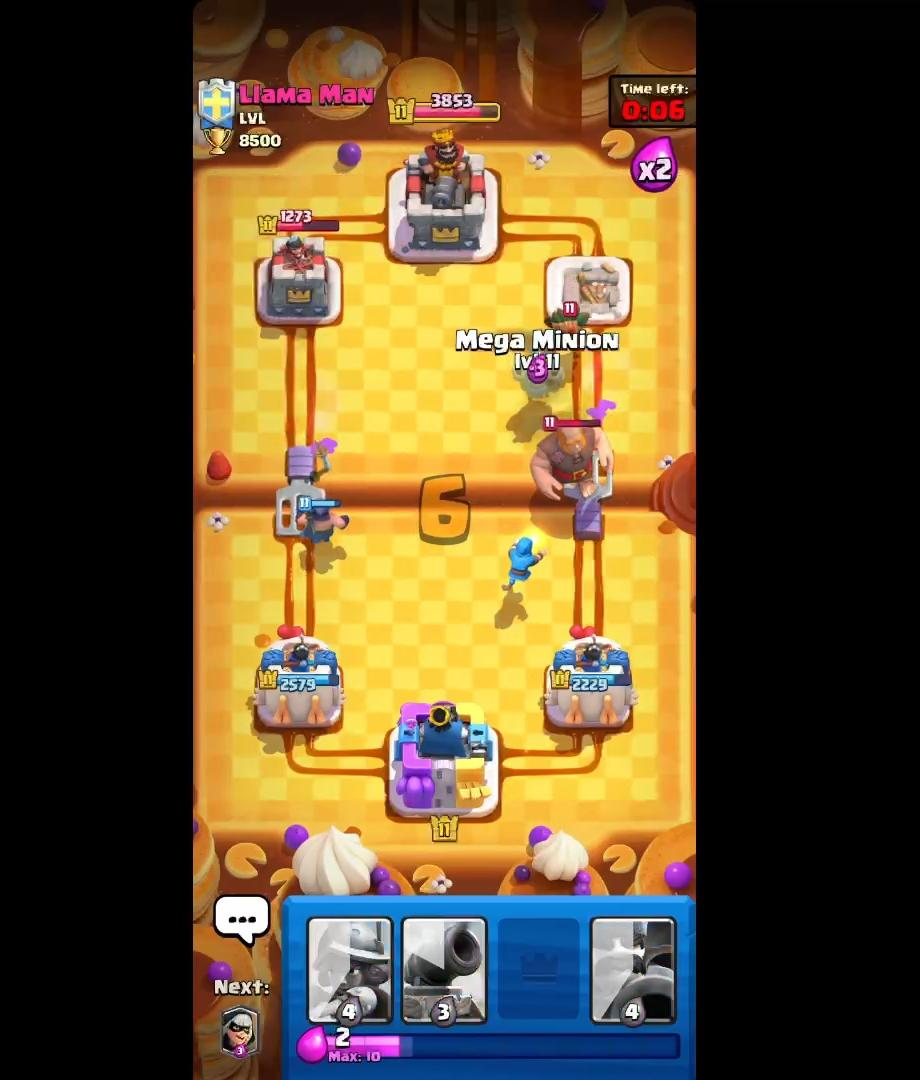Giant: (527, 410, 616, 510)
